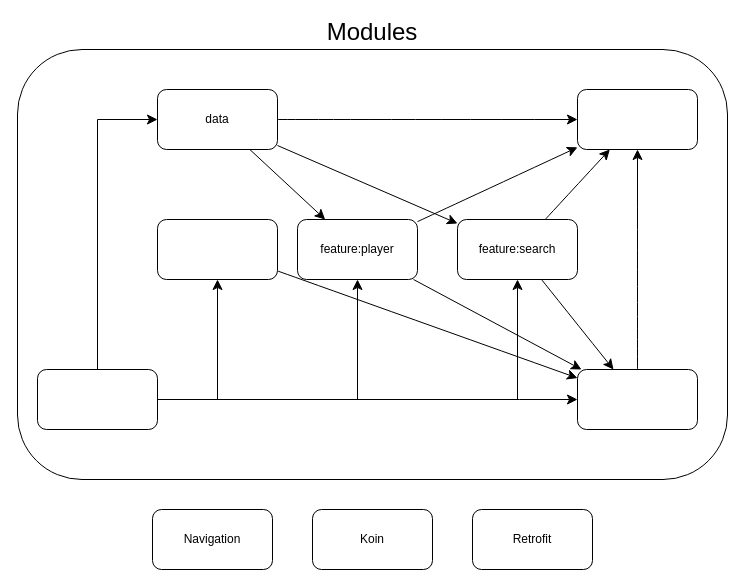
This 745x587 diagram has some shape labels left out. The box of each missing label's shape, as (x1, y1, x2, y2) in pixels:
app: (36, 368, 158, 430)
feature:library: (156, 218, 278, 280)
ui: (576, 368, 698, 430)
util: (576, 88, 698, 150)
